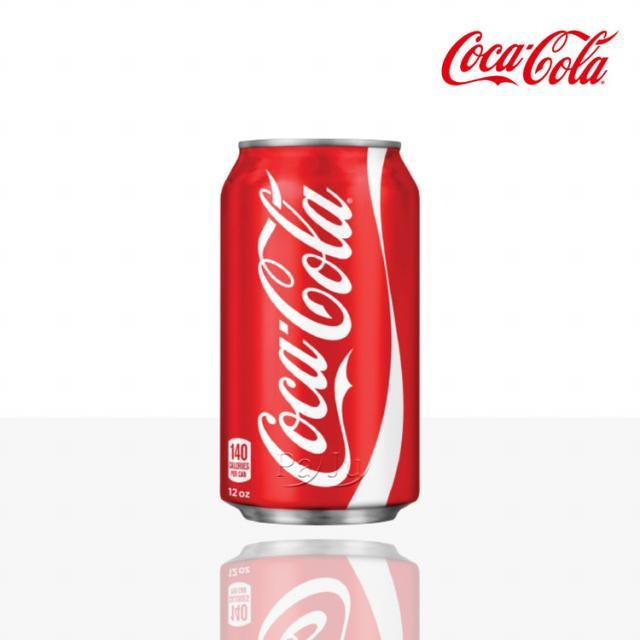coca-cola: (215, 132, 425, 528)
